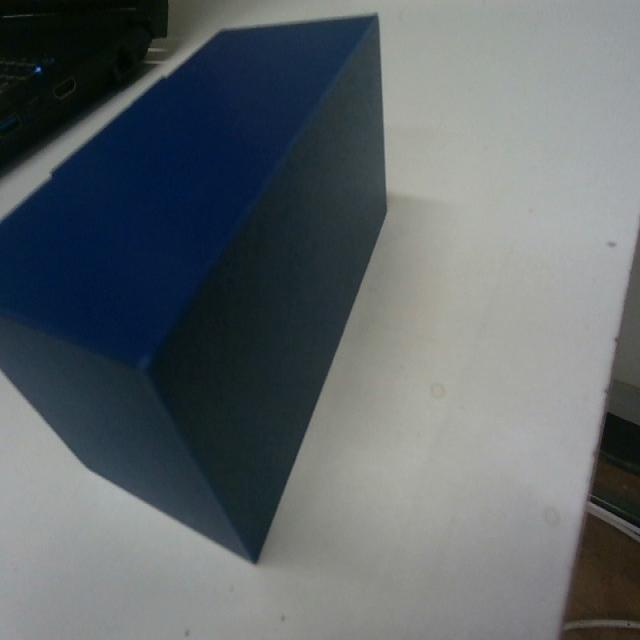Blue Cuboid: (0, 9, 390, 563)
